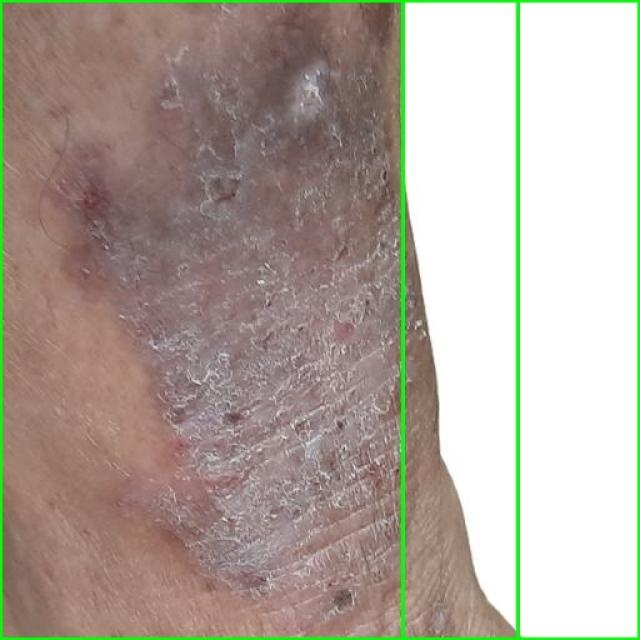Eczema: (0, 0, 518, 639), (402, 0, 639, 639)
